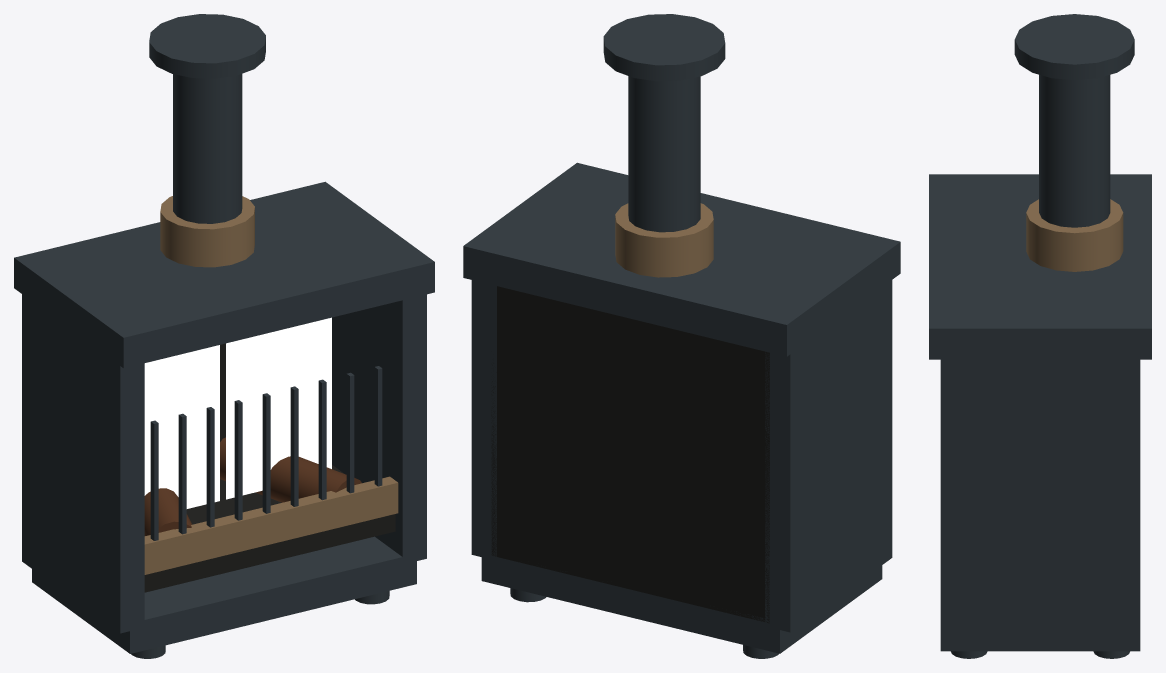
Rendered from iron_fireplace.glb.
3 renders of one model, left to right at view 1: azimuth 30°, elevation 25°; view 2: azimuth 150°, elevation 25°; view 3: azimuth 270°, elevation 25°, orthographic. The views are drawn at different scales.
Parts seen in each view (by area): view 1: _MeshInstance3D_60; view 2: _MeshInstance3D_60; view 3: _MeshInstance3D_60.
Part boxes in pixels (x1,y1,x2,y2): _MeshInstance3D_60: (14, 14, 434, 658); _MeshInstance3D_60: (463, 14, 900, 658); _MeshInstance3D_60: (929, 14, 1151, 658).
Bounding box in the file's own units: 1.28 × 2.15 × 0.78.
